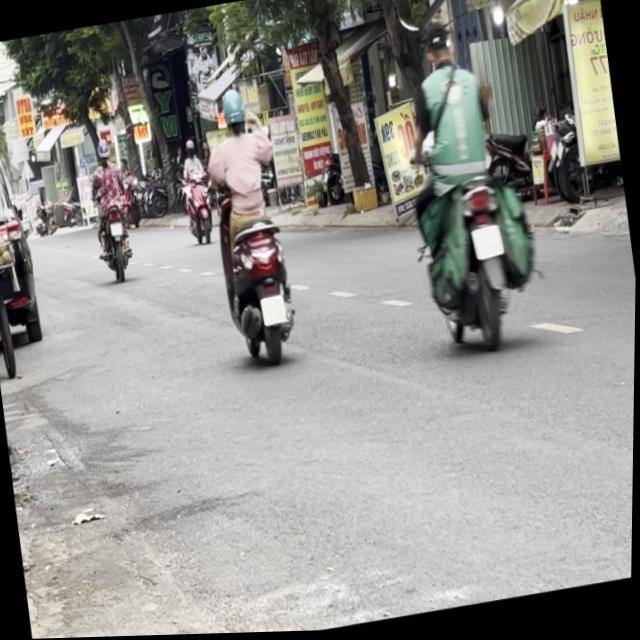helmet: (220, 87, 250, 135)
licenseplate: (387, 8, 556, 364), (195, 79, 309, 372)
motorcyclist: (422, 19, 457, 73)
nohelmet: (473, 226, 506, 261), (261, 295, 289, 326)
